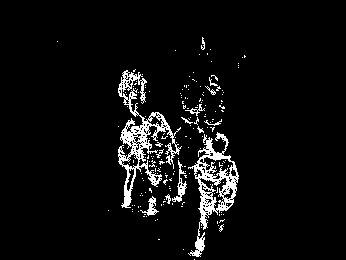person: (195, 133, 237, 255), (115, 117, 152, 210), (144, 109, 175, 217), (117, 66, 149, 125), (198, 75, 225, 137), (179, 72, 201, 139)
